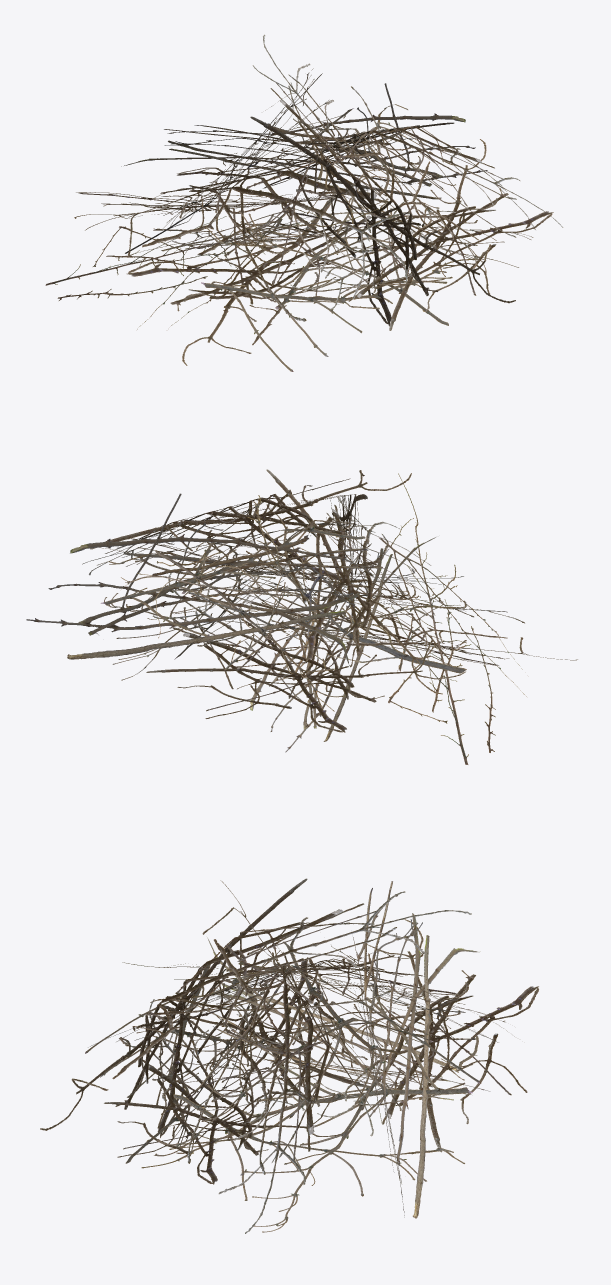
The model's file is PileOfTwigs5.fbx.
3 views of the same model, one above another, from view 1: azimuth 30°, elevation 25°; view 2: azimuth 150°, elevation 25°; view 3: azimuth 270°, elevation 25° (orthographic). The views are drawn at different scales.
Parts seen in each view (by area): view 1: PileOfTwigs5; view 2: PileOfTwigs5; view 3: PileOfTwigs5.
Boxes of the visible parts, box(x1,y1,x2,y2) form: PileOfTwigs5: box(45, 34, 563, 371); PileOfTwigs5: box(26, 469, 577, 764); PileOfTwigs5: box(40, 878, 538, 1233).
Size of the model in its own units: 418 by 202 by 367.
